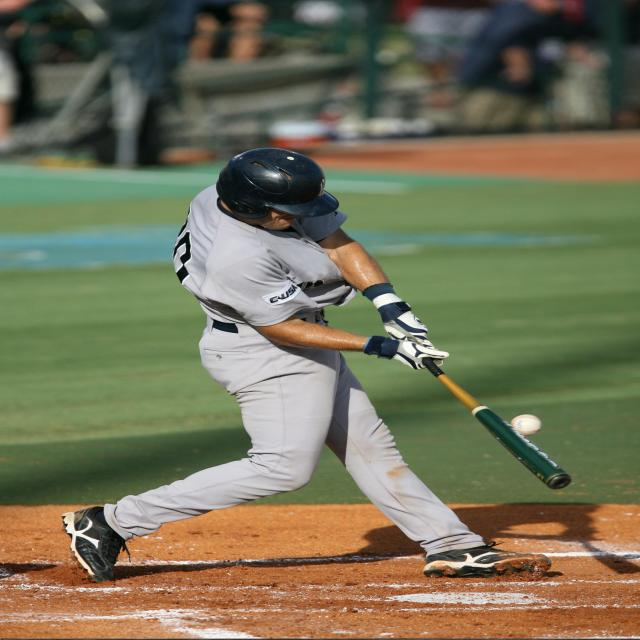baseball: (513, 413, 541, 433)
